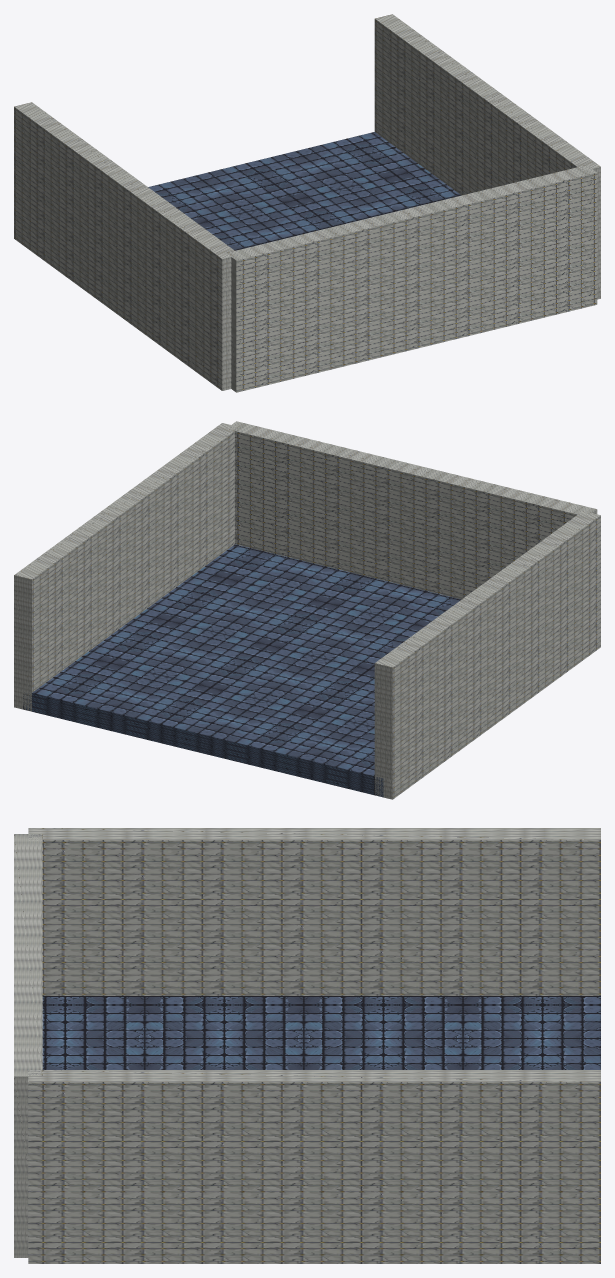
The picture shows the model from 3 angles, top to bottom: view 1: azimuth 30°, elevation 25°; view 2: azimuth 150°, elevation 25°; view 3: azimuth 270°, elevation 25°; orthographic projection. The views are drawn at different scales.
Parts seen in each view (by area): view 1: Cube.003, Cube.004, Cube, Cube.001; view 2: Cube.001, Cube.003, Cube.004, Cube; view 3: Cube, Cube.004, Cube.001, Cube.003.
Boxes of the visible parts, x1,y1,x2,y2 form: Cube.003: (226,165,597,392); Cube.004: (14,102,239,390); Cube: (374,14,600,299); Cube.001: (148,132,461,250); Cube.001: (23,544,461,797); Cube.003: (229,421,597,599); Cube.004: (374,511,600,799); Cube: (14,423,239,711); Cube: (28,1070,600,1263); Cube.004: (28,828,600,995); Cube.001: (42,996,600,1069); Cube.003: (14,834,42,1257).
Size of what is drawn, in the model's own units: 42 by 14 by 41.
Materials: 3 (3 with a texture image).
